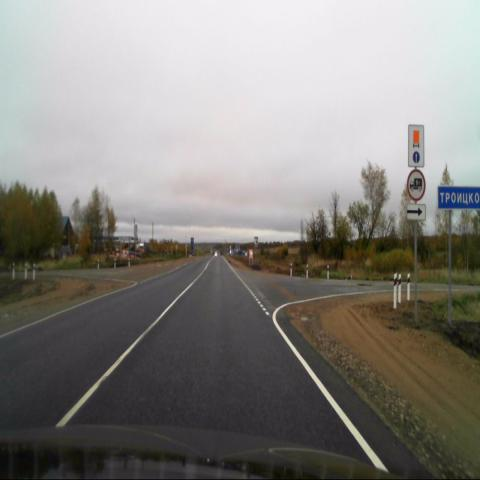3_4: (408, 170, 425, 200)
4_8_2: (408, 124, 424, 167)
8_3_1: (407, 205, 426, 220)
